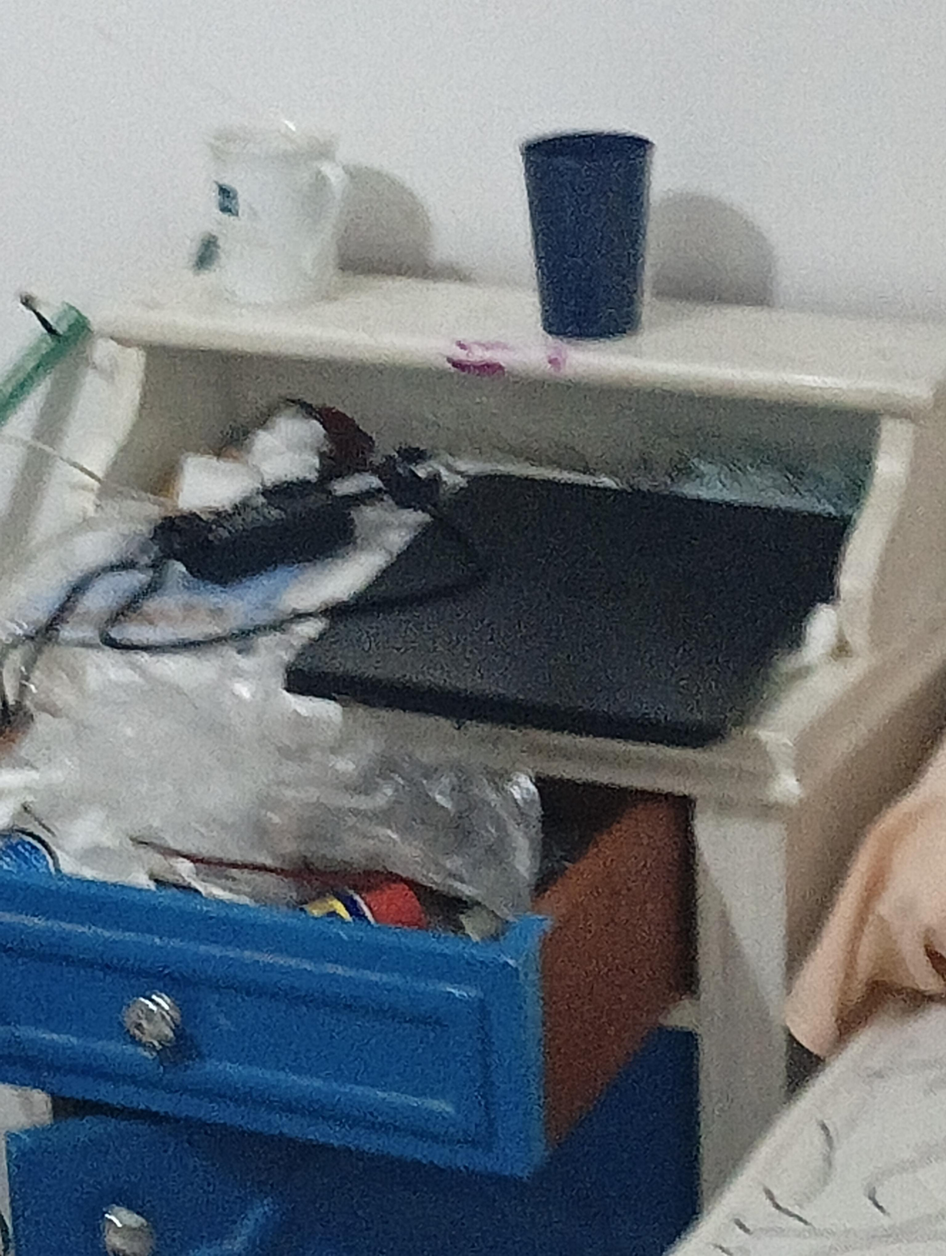cup: (521, 132, 653, 338), (209, 126, 348, 304)
